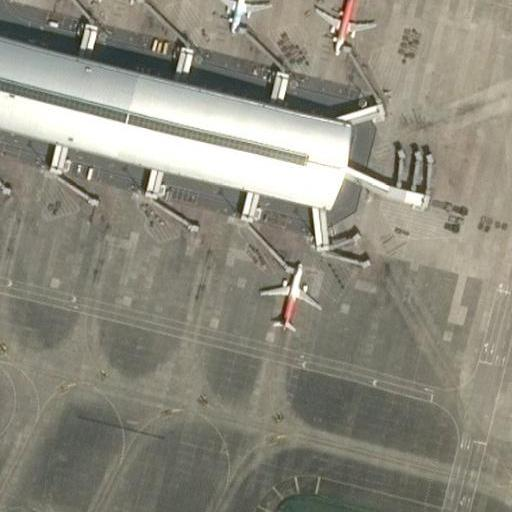Aircraft: (258, 259, 321, 333), (314, 0, 375, 58), (205, 0, 272, 35), (103, 0, 173, 2)
